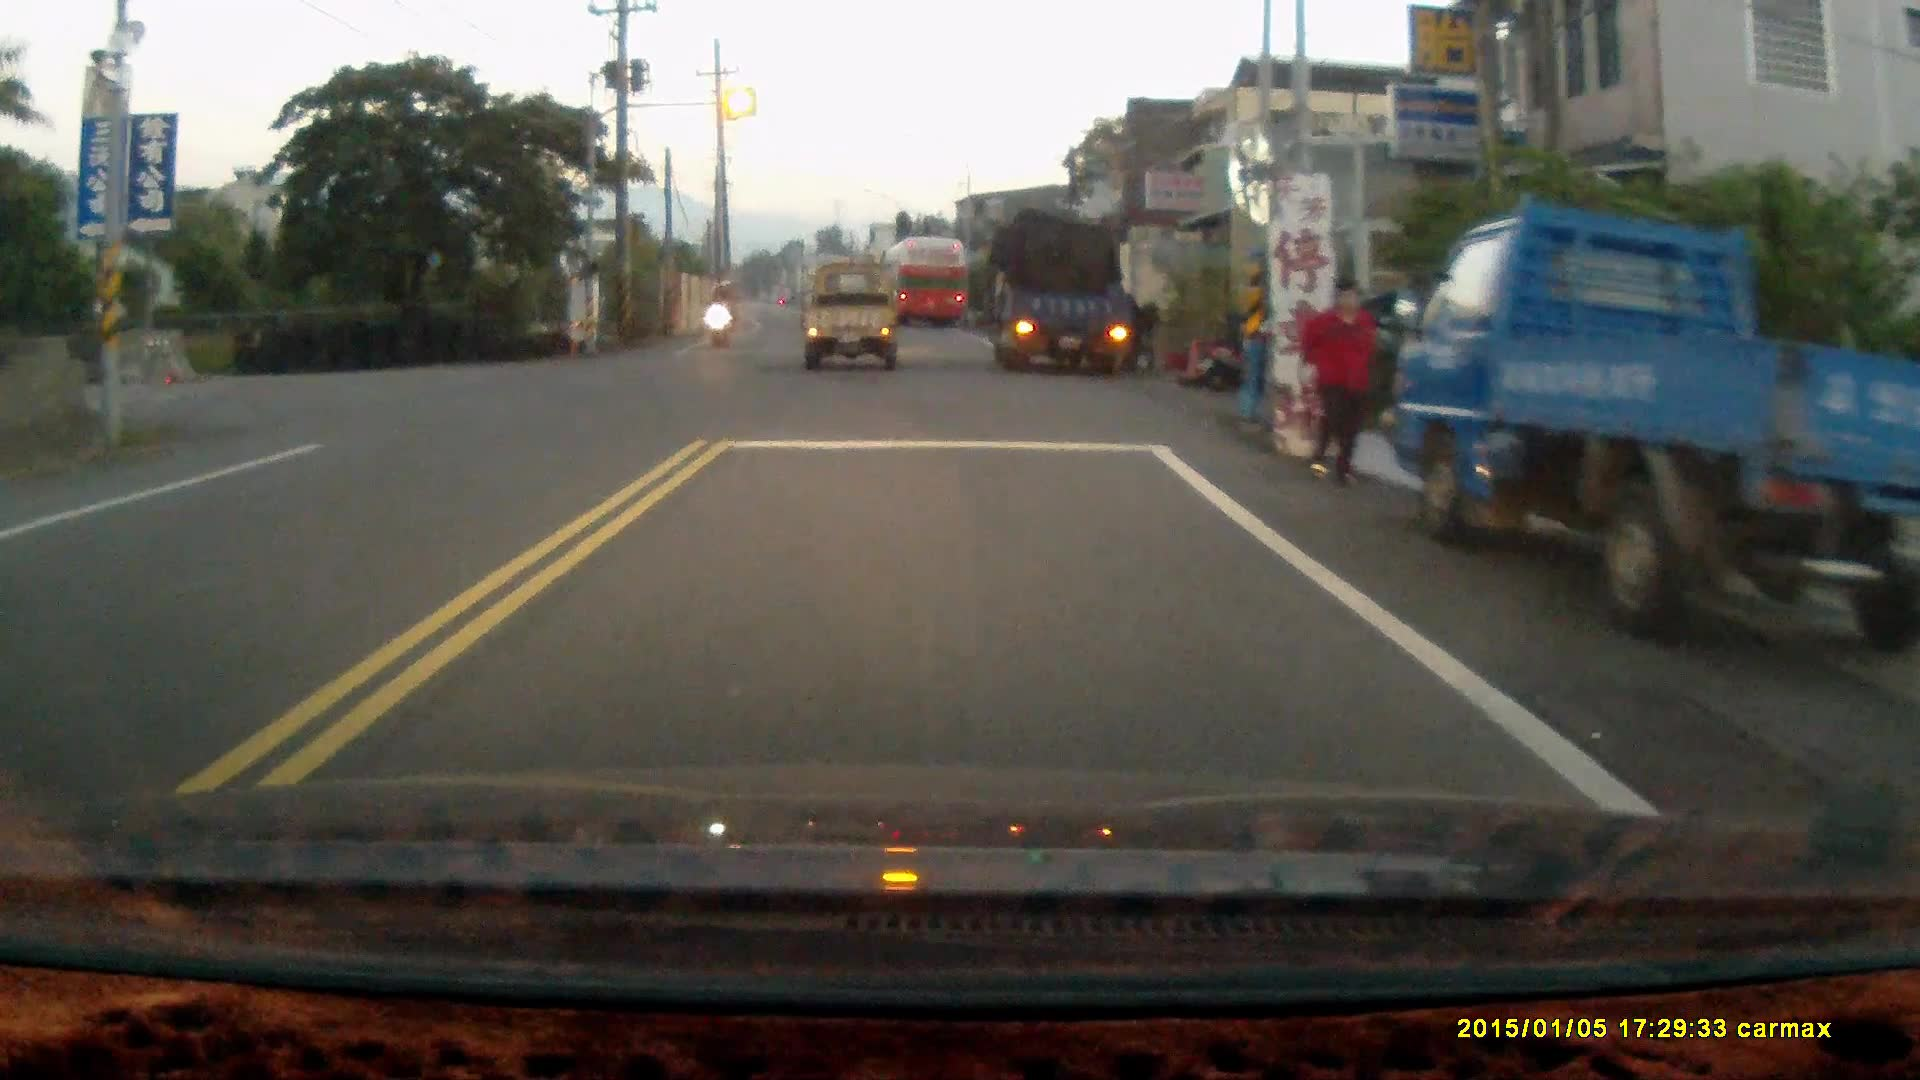pedestrian: (1298, 274, 1379, 492)
rider: (704, 277, 734, 345)
vehicle: (1393, 191, 1920, 623), (993, 211, 1155, 384), (808, 263, 906, 372), (888, 238, 973, 328)
